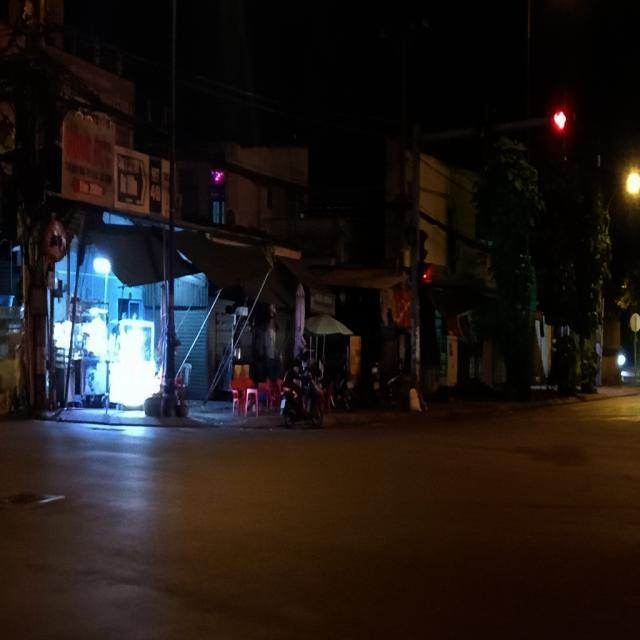106-cam-oto-tai: (42, 220, 66, 264)
